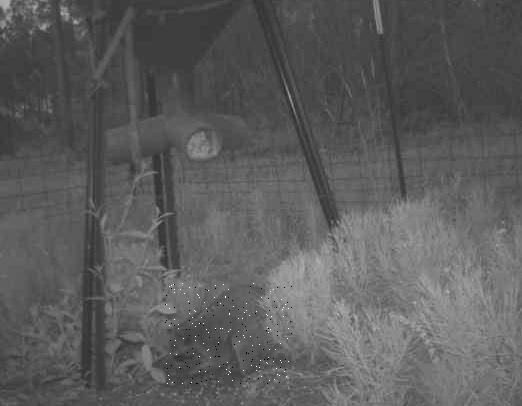Raccoon: (165, 283, 292, 384)
